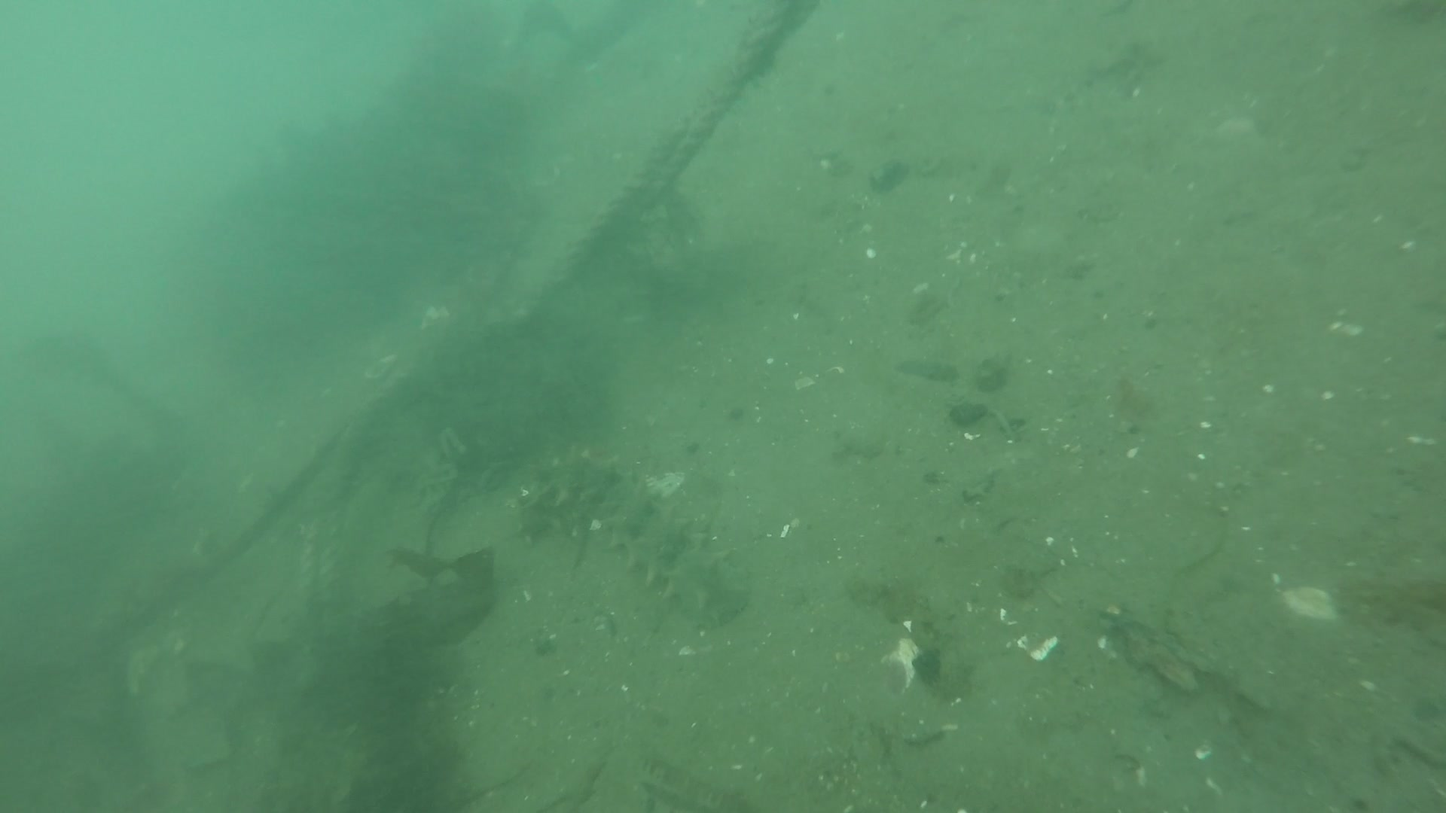echinus: (520, 459, 751, 621)
